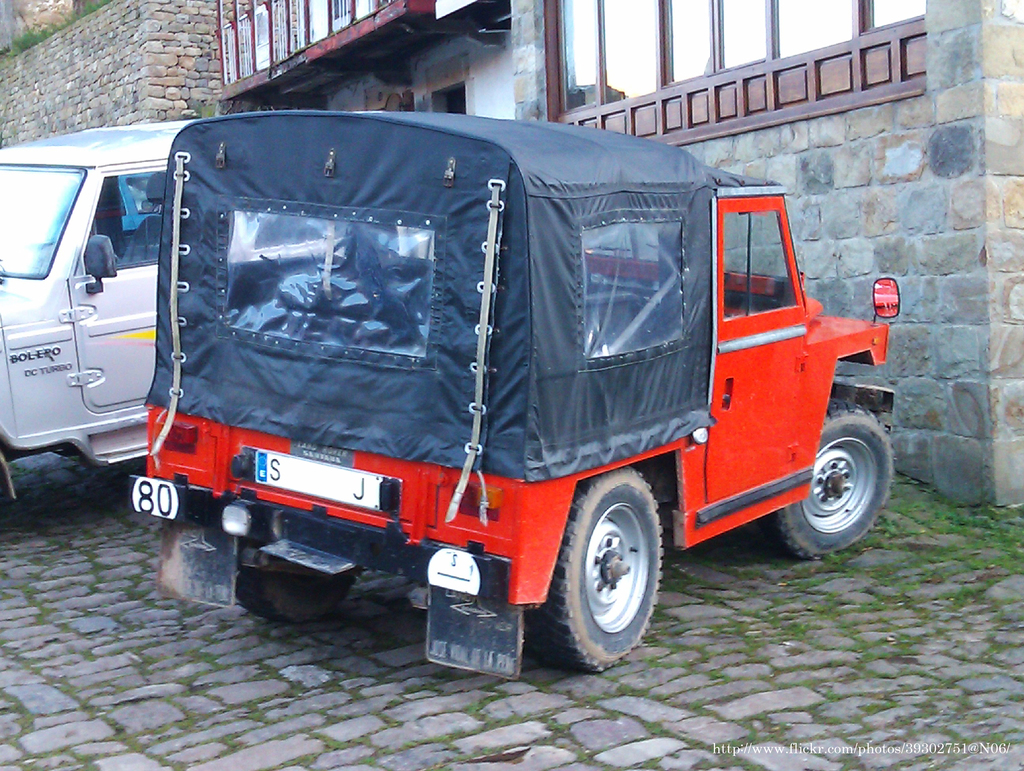Car: (0, 113, 195, 503)
